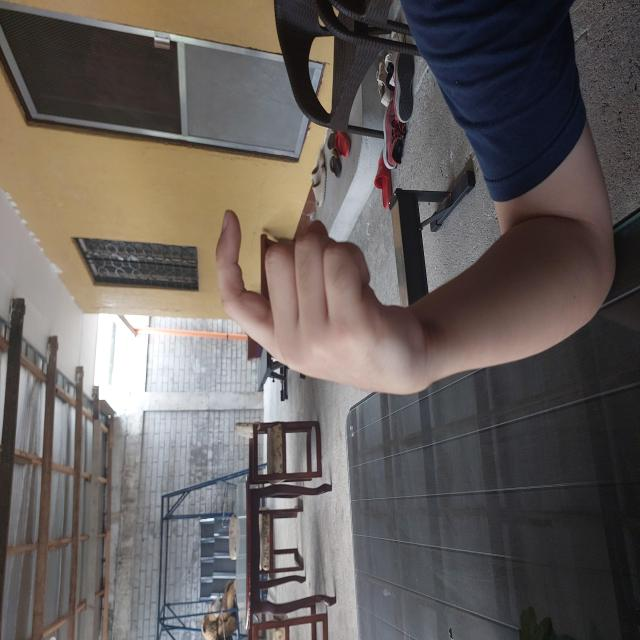X: (243, 212, 433, 422)
